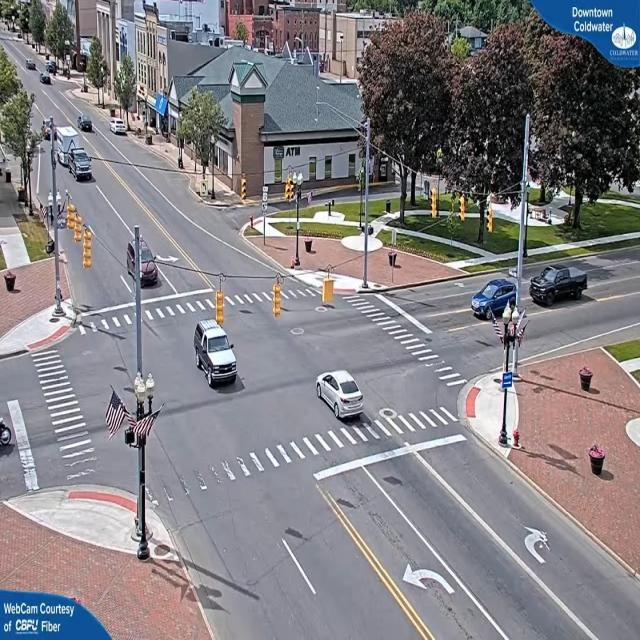car: (196, 319, 240, 391), (316, 372, 365, 422), (530, 266, 588, 307), (472, 278, 519, 322), (73, 150, 94, 180), (110, 119, 129, 136)
